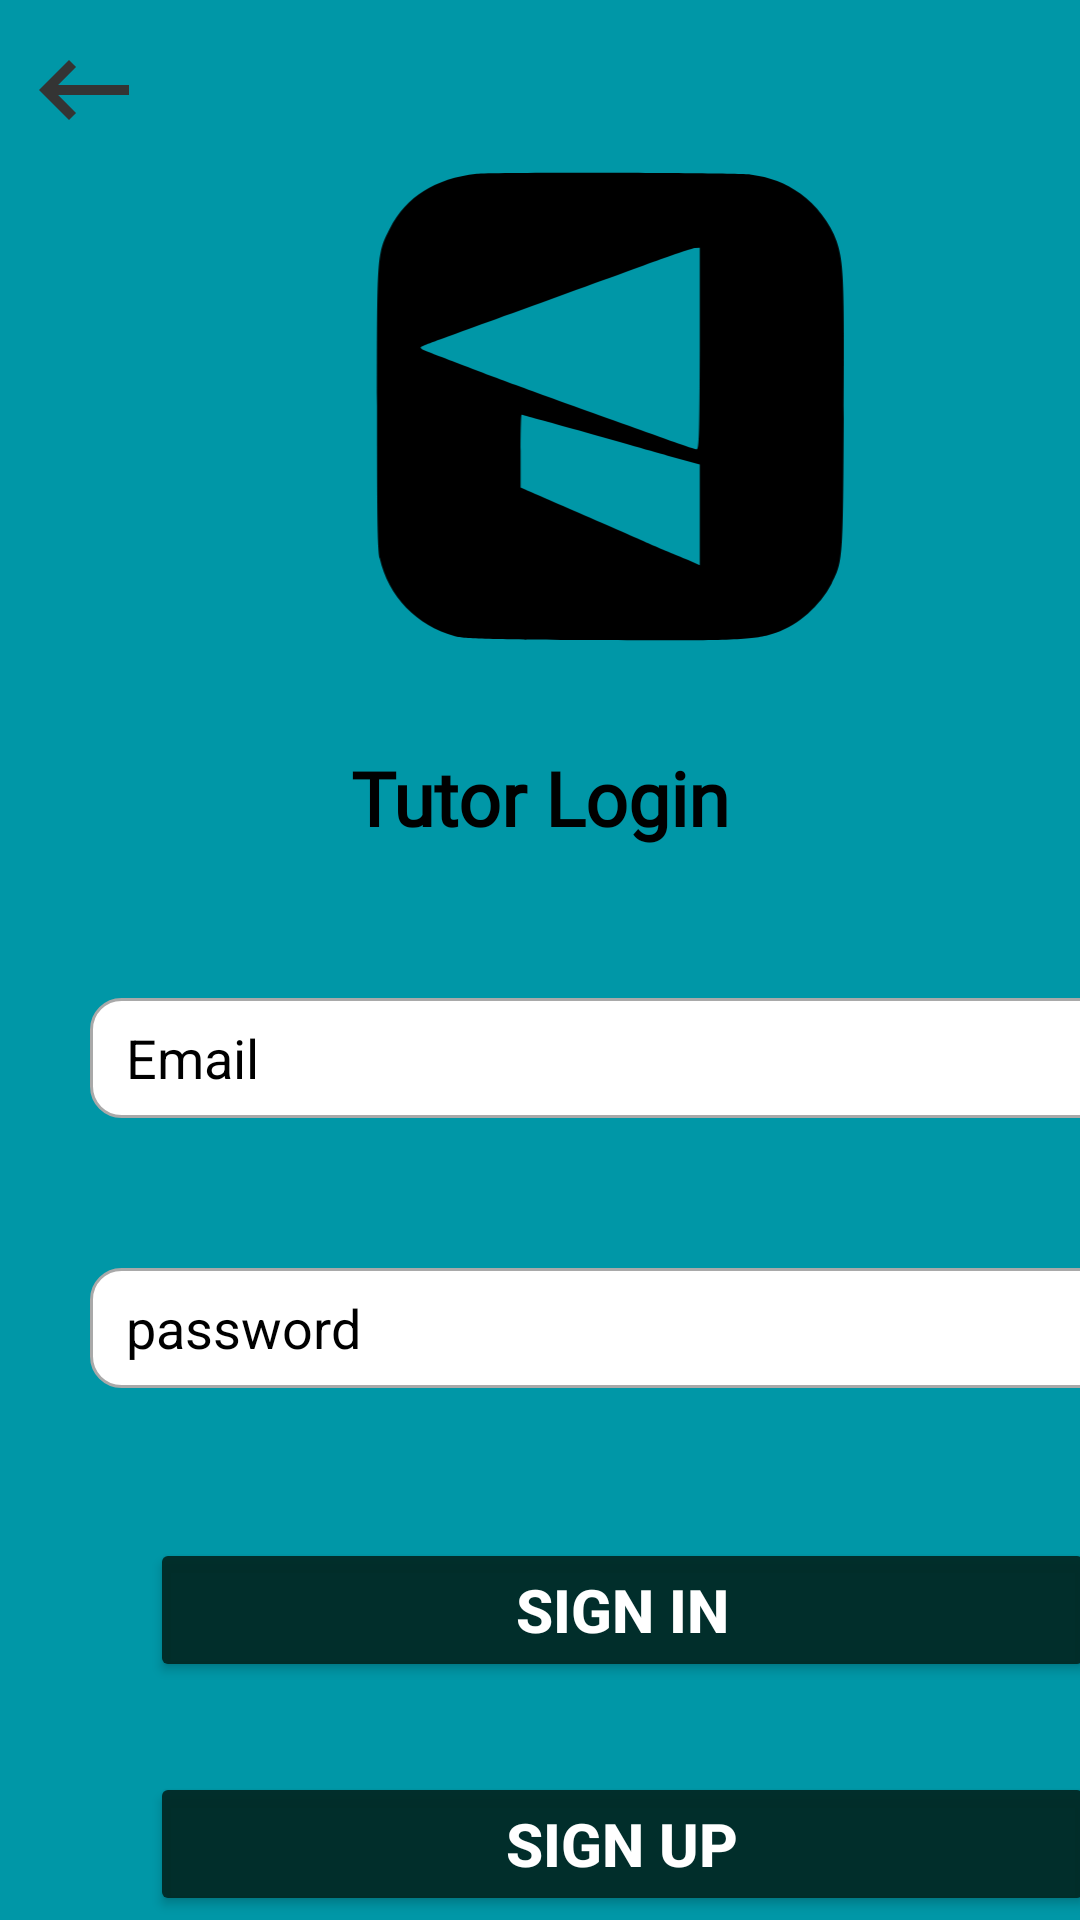

Named icons in this screenshot (1080×1920) and their centers, (x,y):
back: (84,90)
